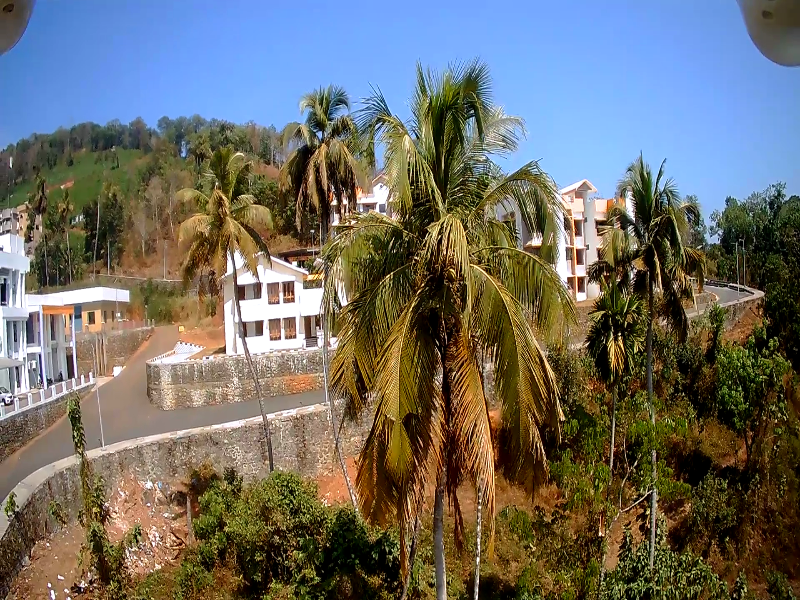coconut: (442, 267, 457, 280)
